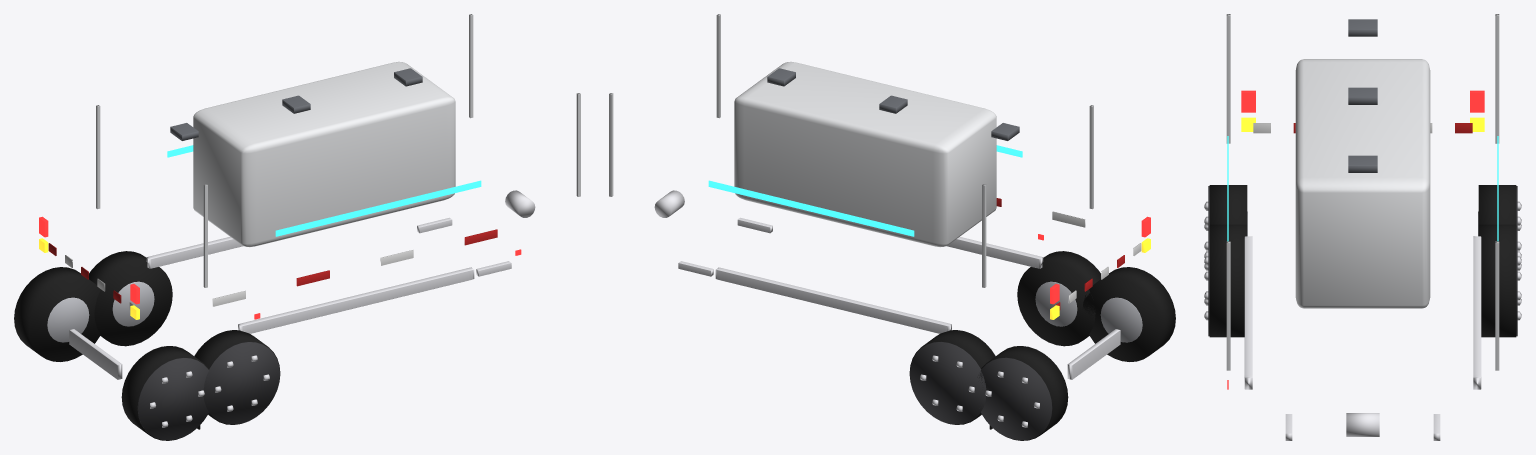
The model's file is trailer.glb.
3 renders of one model, left to right at view 1: azimuth 30°, elevation 25°; view 2: azimuth 150°, elevation 25°; view 3: azimuth 270°, elevation 25°, orthographic. The views are drawn at different scales.
Parts seen in each view (by area): view 1: Trailer_Box, Trailer_Wheel_L_0.35_Side, Trailer_Wheel_R_-0.35, Trailer_Wheel_R_0.35, Trailer_Wheel_L_-0.35_Side, Trailer_Rail_L, Trailer_Wheel_L_-0.35, Trailer_Accent_L, Trailer_Wheel_R_-0.35_Rim, Trailer_Wheel_L_0.35, Trailer_Wheel_R_0.35_Rim, Trailer_Rail_R (+2 smaller); view 2: Trailer_Box, Trailer_Wheel_L_-0.35, Trailer_Wheel_R_0.35_Side, Trailer_Wheel_R_-0.35_Side, Trailer_Wheel_L_0.35, Trailer_Rail_R, Trailer_Wheel_R_-0.35, Trailer_Accent_R, Trailer_Wheel_L_-0.35_Rim, Trailer_Wheel_R_0.35, Trailer_Wheel_L_0.35_Rim, Trailer_Rail_L (+2 smaller); view 3: Trailer_Box, Trailer_Wheel_L_0.35, Trailer_Wheel_R_0.35, Trailer_Wheel_L_-0.35, Trailer_Wheel_R_-0.35, Trailer_Rail_L, Trailer_Rail_R, Trailer_Kingpin, Trailer_CornerPost_0.05_1, Trailer_CornerPost_0.05_-1, Trailer_CornerPost_4.05_1, Trailer_CornerPost_4.05_-1 (+5 smaller).
Part boxes in pixels (<box>): Trailer_Box: <box>193,61,455,247</box>; Trailer_Wheel_L_0.35_Side: <box>203,341,279,424</box>; Trailer_Wheel_R_-0.35: <box>14,267,100,361</box>; Trailer_Wheel_R_0.35: <box>89,251,172,346</box>; Trailer_Wheel_L_-0.35_Side: <box>137,357,214,440</box>; Trailer_Rail_L: <box>238,267,474,333</box>; Trailer_Wheel_L_-0.35: <box>121,346,208,440</box>; Trailer_Accent_L: <box>275,180,481,236</box>; Trailer_Wheel_R_-0.35_Rim: <box>47,297,89,342</box>; Trailer_Wheel_L_0.35: <box>194,330,280,424</box>; Trailer_Wheel_R_0.35_Rim: <box>112,281,154,326</box>; Trailer_Rail_R: <box>146,237,243,268</box>; Trailer_Box: <box>734,61,996,247</box>; Trailer_Wheel_L_-0.35: <box>1083,267,1175,361</box>; Trailer_Wheel_R_0.35_Side: <box>910,341,986,424</box>; Trailer_Wheel_R_-0.35_Side: <box>975,357,1052,440</box>; Trailer_Wheel_L_0.35: <box>1017,251,1100,346</box>; Trailer_Rail_R: <box>715,267,951,333</box>; Trailer_Wheel_R_-0.35: <box>981,346,1068,440</box>; Trailer_Accent_R: <box>708,180,914,236</box>; Trailer_Wheel_L_-0.35_Rim: <box>1100,297,1142,342</box>; Trailer_Wheel_R_0.35: <box>909,330,995,424</box>; Trailer_Wheel_L_0.35_Rim: <box>1035,281,1077,326</box>; Trailer_Rail_L: <box>946,237,1043,268</box>; Trailer_Box: <box>1295,59,1430,308</box>; Trailer_Wheel_L_0.35: <box>1209,224,1247,337</box>; Trailer_Wheel_R_0.35: <box>1478,224,1516,337</box>; Trailer_Wheel_L_-0.35: <box>1209,185,1247,224</box>; Trailer_Wheel_R_-0.35: <box>1478,185,1516,224</box>; Trailer_Rail_L: <box>1244,236,1252,389</box>; Trailer_Rail_R: <box>1473,236,1481,389</box>; Trailer_Kingpin: <box>1346,413,1379,436</box>; Trailer_CornerPost_0.05_1: <box>1495,14,1499,143</box>; Trailer_CornerPost_0.05_-1: <box>1226,14,1230,143</box>; Trailer_CornerPost_4.05_1: <box>1495,241,1499,370</box>; Trailer_CornerPost_4.05_-1: <box>1226,241,1230,370</box>.
Bounding box in the file's own units: 4.86 × 2.55 × 2.36.
